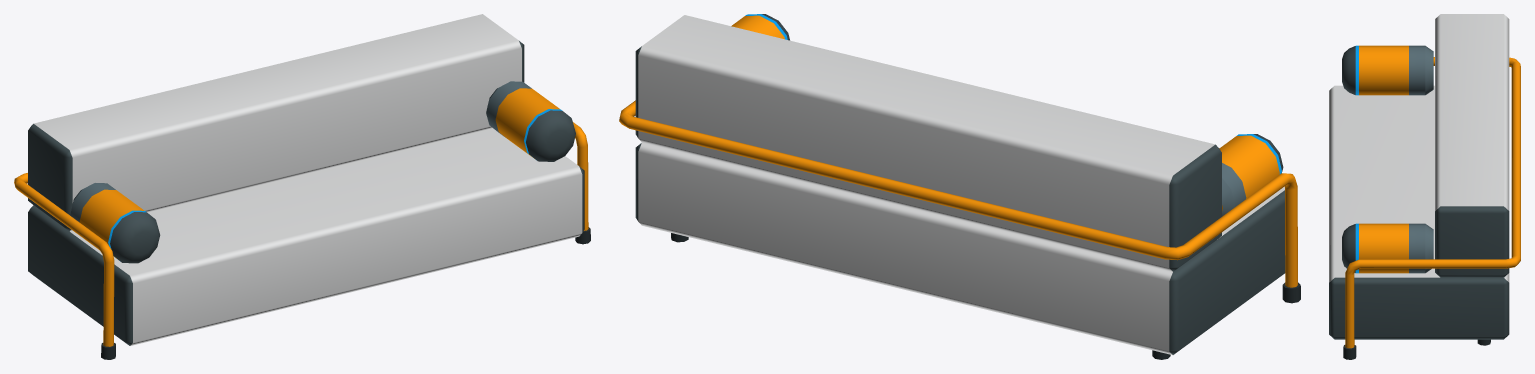
File: Sofa_008.glb
The picture shows the model from 3 angles, left to right: view 1: azimuth 30°, elevation 25°; view 2: azimuth 150°, elevation 25°; view 3: azimuth 270°, elevation 25°; orthographic projection. The views are drawn at different scales.
Parts seen in each view (by area): view 1: Sofa_008; view 2: Sofa_008; view 3: Sofa_008.
Part boxes in pixels (bbox=[...]): Sofa_008: bbox=[14, 14, 590, 359]; Sofa_008: bbox=[619, 14, 1300, 359]; Sofa_008: bbox=[1329, 14, 1520, 359].
Bounding box in the file's own units: 2.59 × 0.8424 × 1.01.
2 materials, 2 textured.
